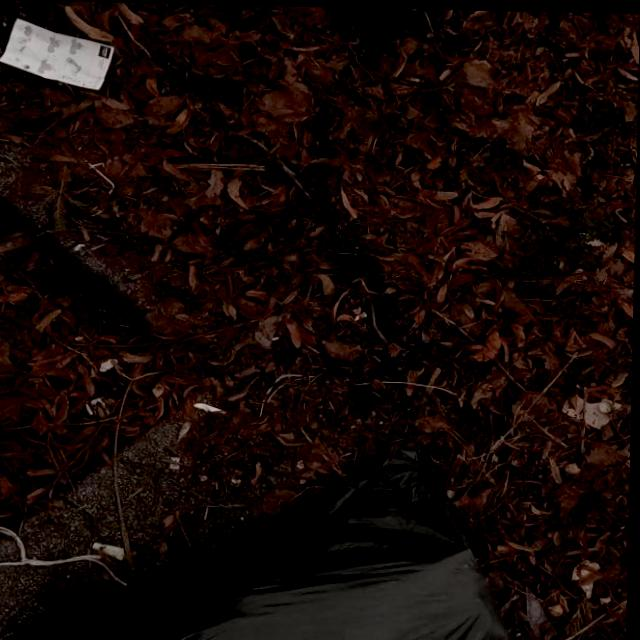Paper: (0, 15, 119, 92)
